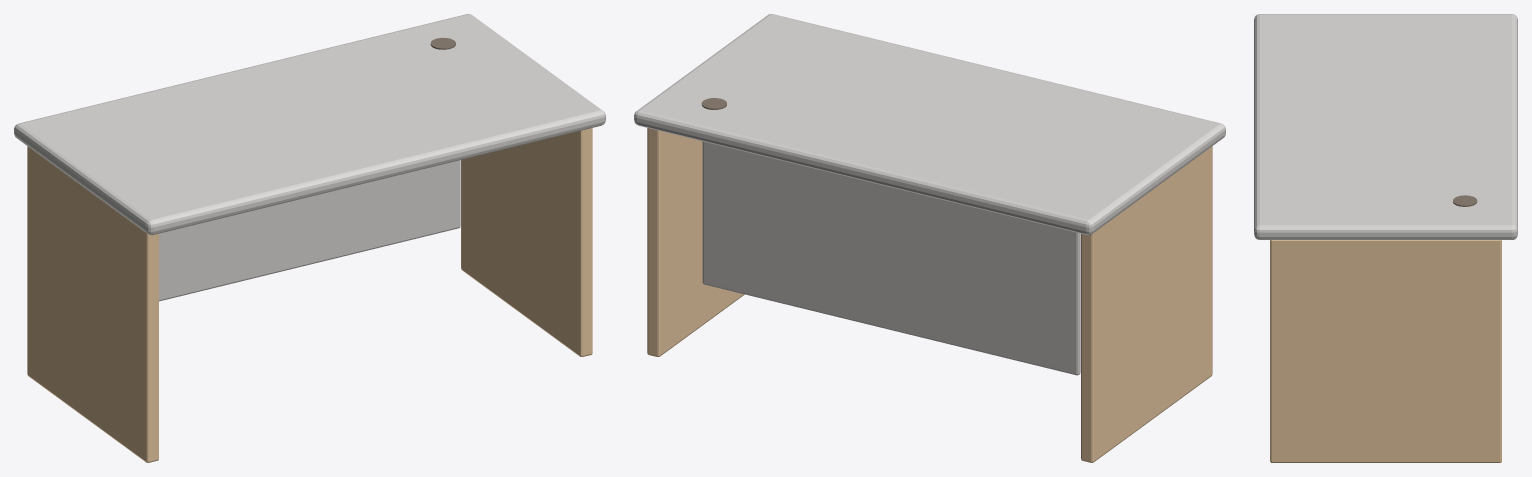
File: isometric_workstation_variations_guide_15.glb
3 renders of one model, left to right at view 1: azimuth 30°, elevation 25°; view 2: azimuth 150°, elevation 25°; view 3: azimuth 270°, elevation 25°, orthographic. The views are drawn at different scales.
Parts seen in each view (by area): view 1: Cube; view 2: Cube; view 3: Cube.
Part boxes in pixels (<box>): Cube: <box>14,14,605,462</box>; Cube: <box>634,14,1225,462</box>; Cube: <box>1254,14,1517,462</box>.
Size of the model in its own units: 1.45 by 0.754 by 0.75.
